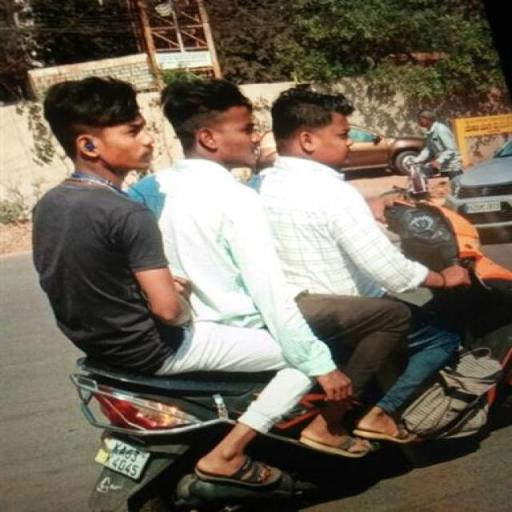tripple riding: (20, 72, 472, 368)
